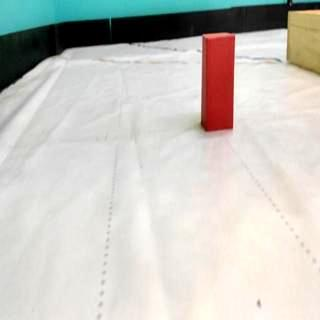redbox: (200, 32, 237, 132)
